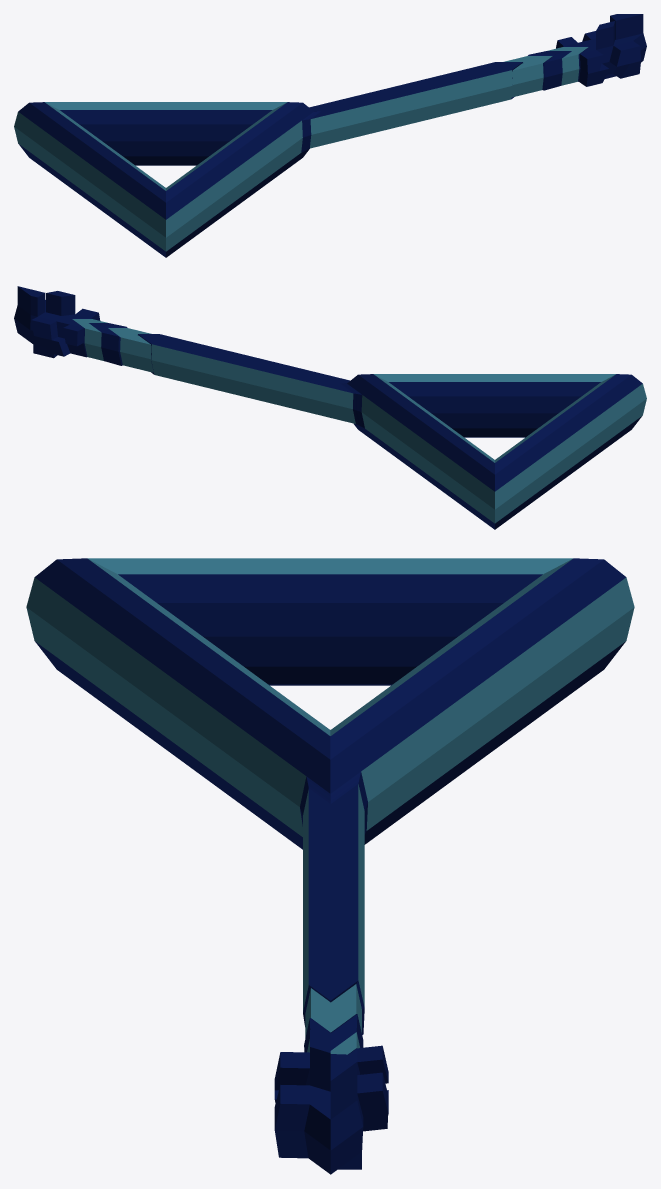
File: MazeKeyvvv1.glb
3 renders of one model, top to bottom at view 1: azimuth 30°, elevation 25°; view 2: azimuth 150°, elevation 25°; view 3: azimuth 270°, elevation 25°, orthographic. The views are drawn at different scales.
Parts seen in each view (by area): view 1: Torus; view 2: Torus; view 3: Torus.
Part boxes in pixels (box(x1,y1,x2,y2)): Torus: box(14, 14, 646, 257); Torus: box(14, 286, 646, 529); Torus: box(26, 558, 634, 1174).
Bounding box in the file's own units: 4.58 × 0.5097 × 2.17.
